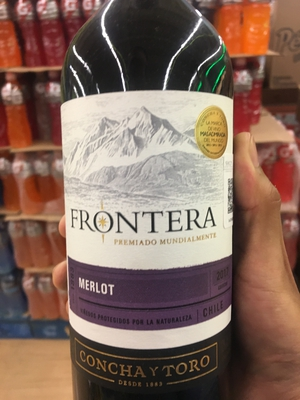frontera merlot: (47, 24, 254, 400)
